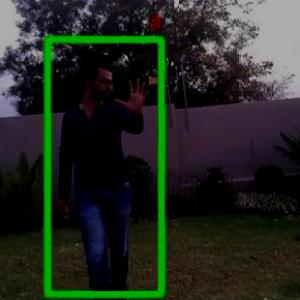follow_hand: (114, 70, 154, 119)
